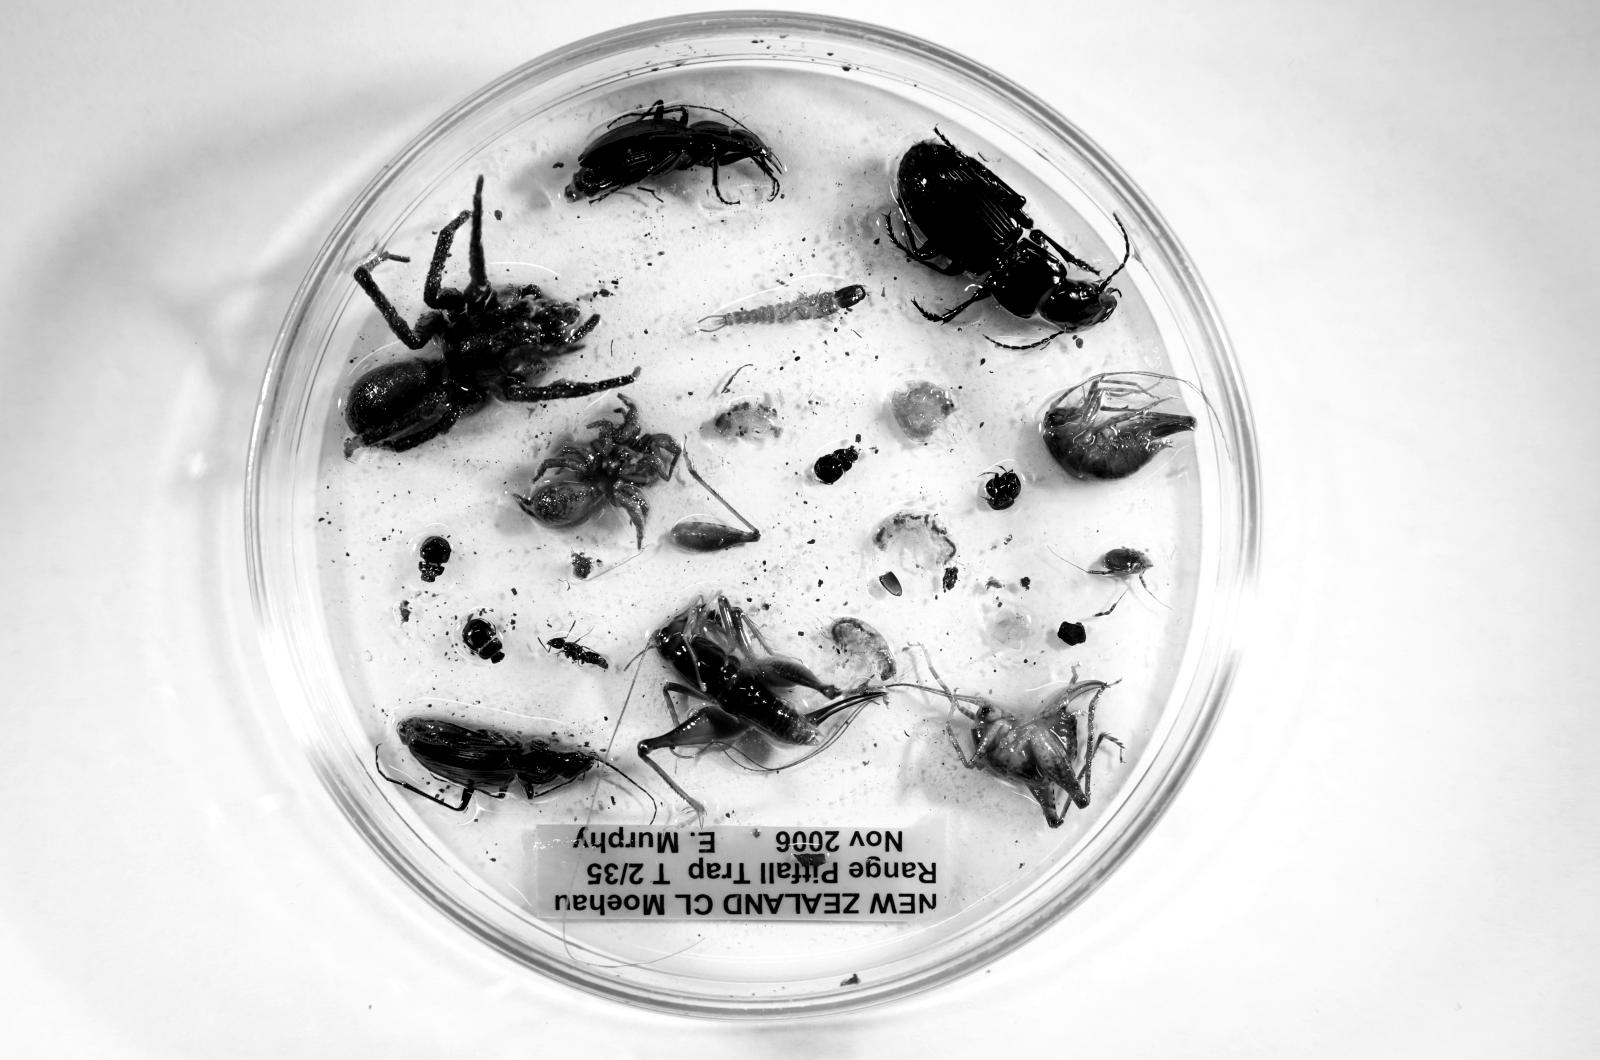amphipoda: (873, 510, 956, 569), (829, 618, 896, 680), (892, 381, 957, 444)
araneae: (346, 176, 639, 451), (518, 393, 682, 549)
carabidae: (889, 132, 1116, 331), (565, 101, 780, 202), (399, 717, 598, 802)
coleoptera: (461, 615, 505, 662), (812, 445, 860, 485), (419, 536, 452, 582)
coleoptera_larva: (700, 284, 868, 330)
formicidae: (546, 636, 609, 668)
opiliones: (1096, 547, 1153, 577)
orthoptera: (637, 594, 867, 809), (948, 677, 1122, 828), (1043, 374, 1197, 479)
